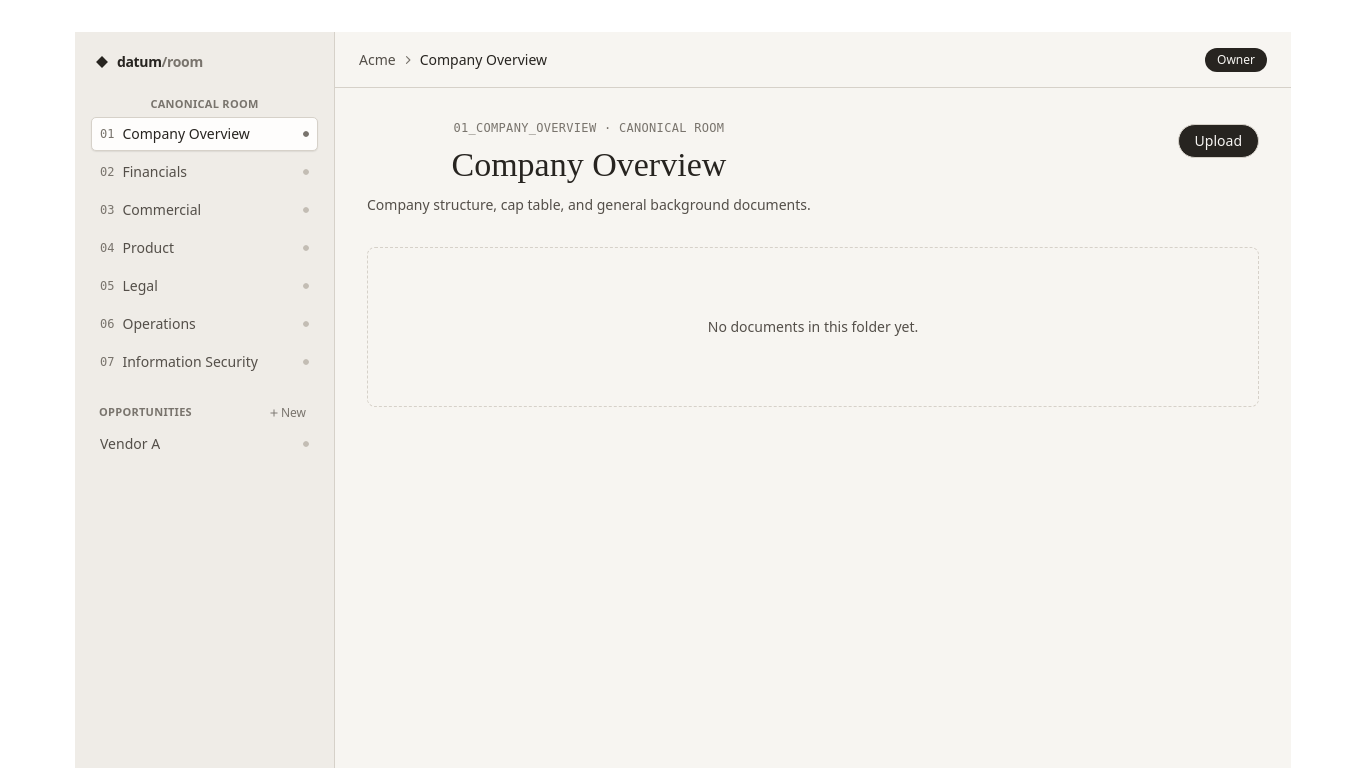
Test: Room › with a loaded room › lists an opportunity's documents when selected, with the OPPORTUNITY eyebrow
Click the button "Vendor A" at [204, 444], box 91,426 -> 318,460
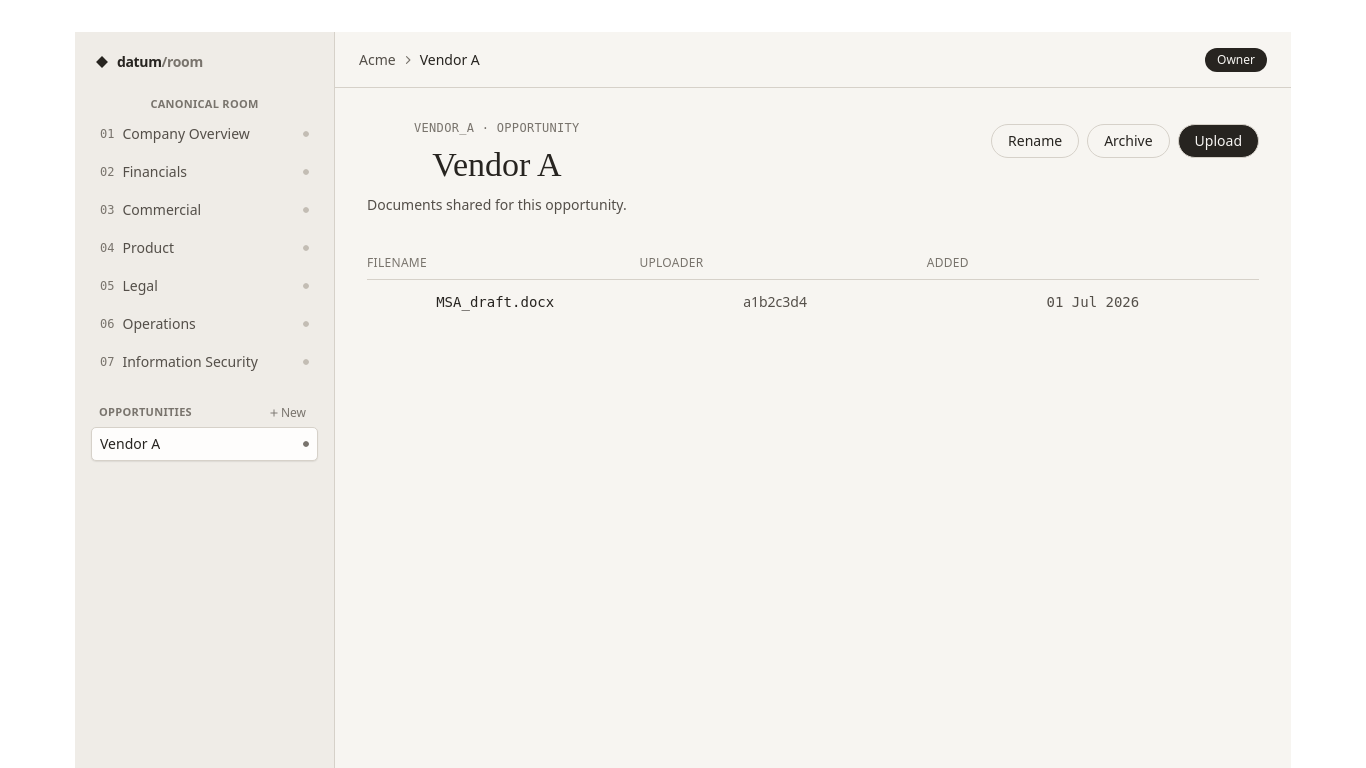
Now the text "VENDOR_A · OPPORTUNITY" is shown, box 414,121 -> 580,135
Now the button "MSA_draft.docx" is shown, box 436,292 -> 554,312
